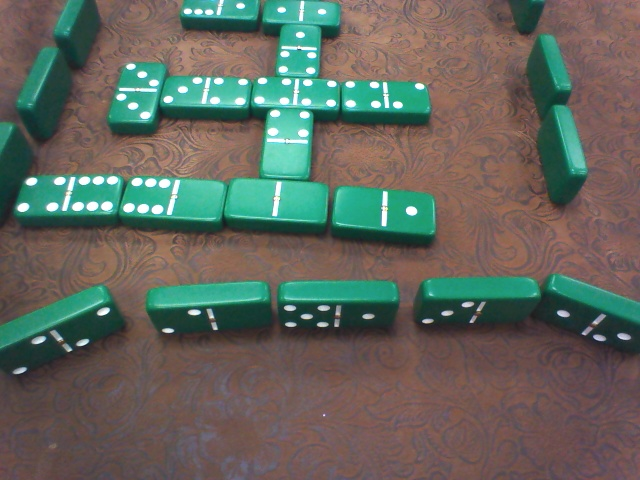B: (331, 182, 436, 241), (227, 176, 332, 232), (119, 174, 224, 227), (17, 174, 120, 222), (341, 75, 435, 127), (251, 73, 344, 123), (164, 72, 255, 123), (256, 109, 317, 179), (105, 62, 163, 130), (176, 1, 261, 35), (261, 3, 349, 32), (276, 26, 325, 78)
C: (13, 46, 75, 135), (54, 1, 107, 66), (4, 121, 34, 223)
D: (529, 104, 588, 208), (517, 34, 573, 114), (508, 2, 551, 37)
E: (1, 283, 127, 385), (547, 265, 640, 360), (142, 277, 278, 341), (408, 271, 540, 334), (277, 277, 402, 334)
